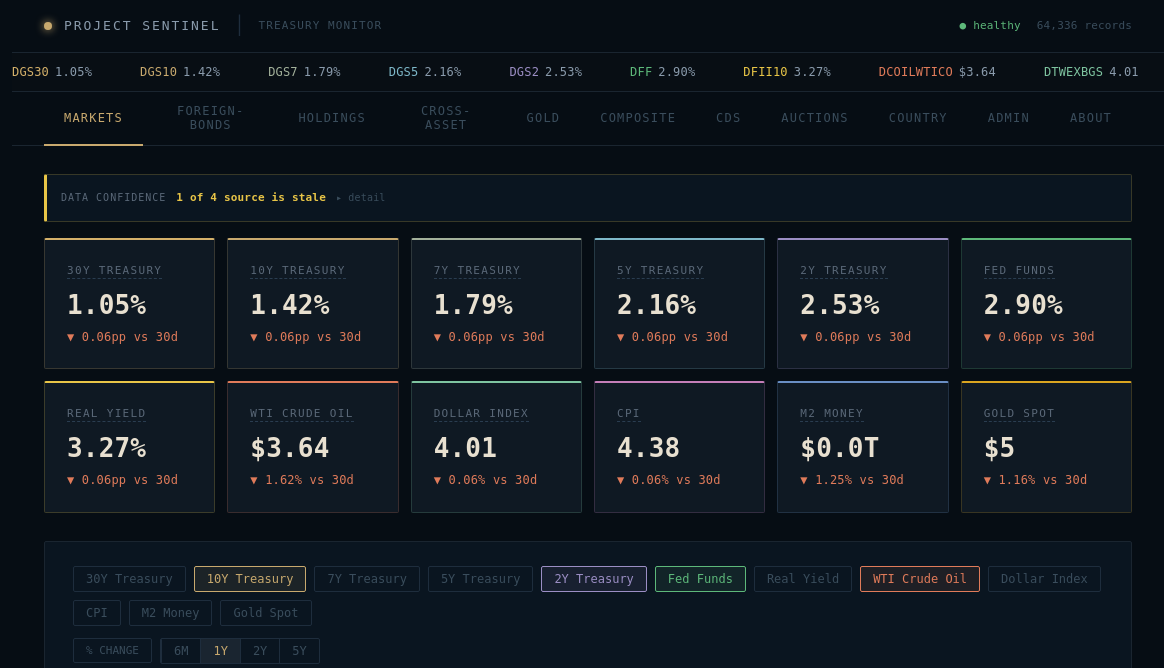
Scenario: D-0113: opening and closing a country card does not reset MARKETS (#97 class) › toggle MARKETS state, open DEU's card, come back: unchanged
Expected: the button "% CHANGE" is shown, x1=73 y1=638 x2=152 y2=663
Click the button "30Y Treasury" at x=129, y=579, box x1=73 y1=566 x2=186 y2=592
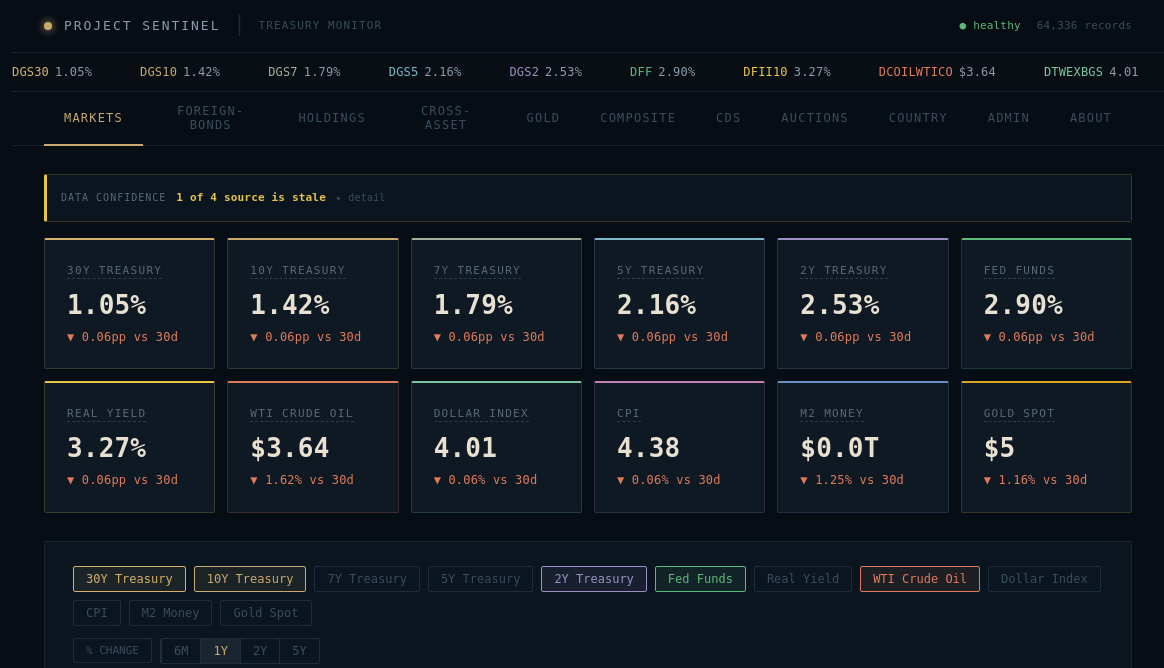
Click the button "% CHANGE" at x=112, y=651, box x1=73 y1=638 x2=152 y2=663
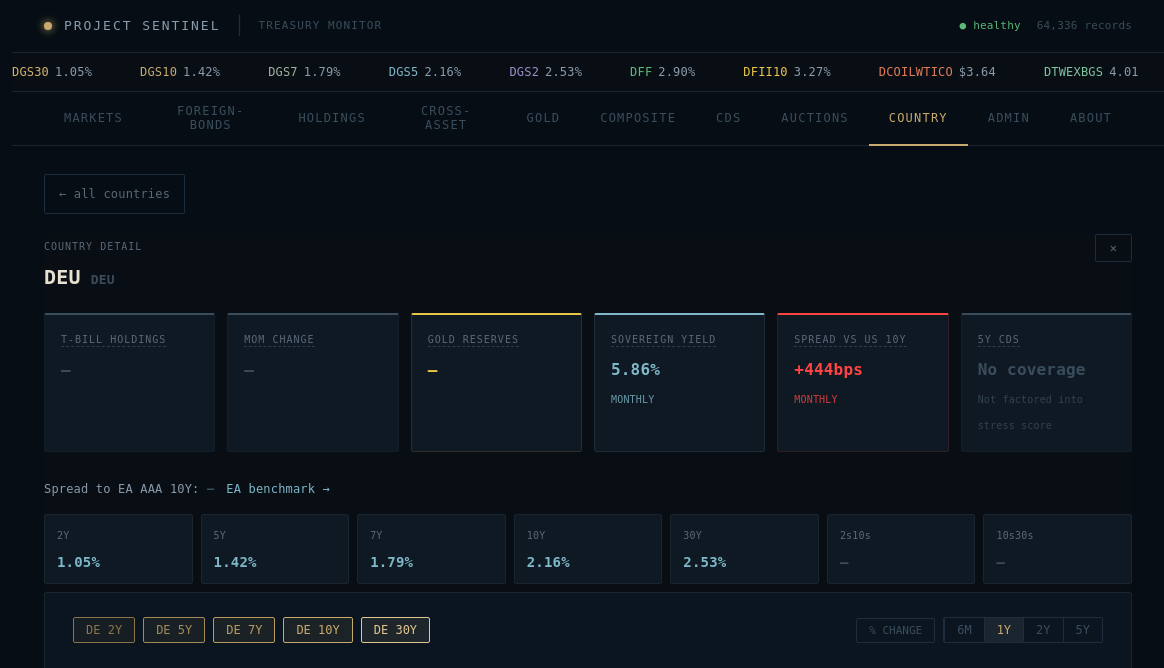
Result: the text "COUNTRY DETAIL" is shown at x1=44 y1=241 x2=142 y2=252
Click the button "MARKETS" at x=94, y=119, box x1=44 y1=92 x2=143 y2=146
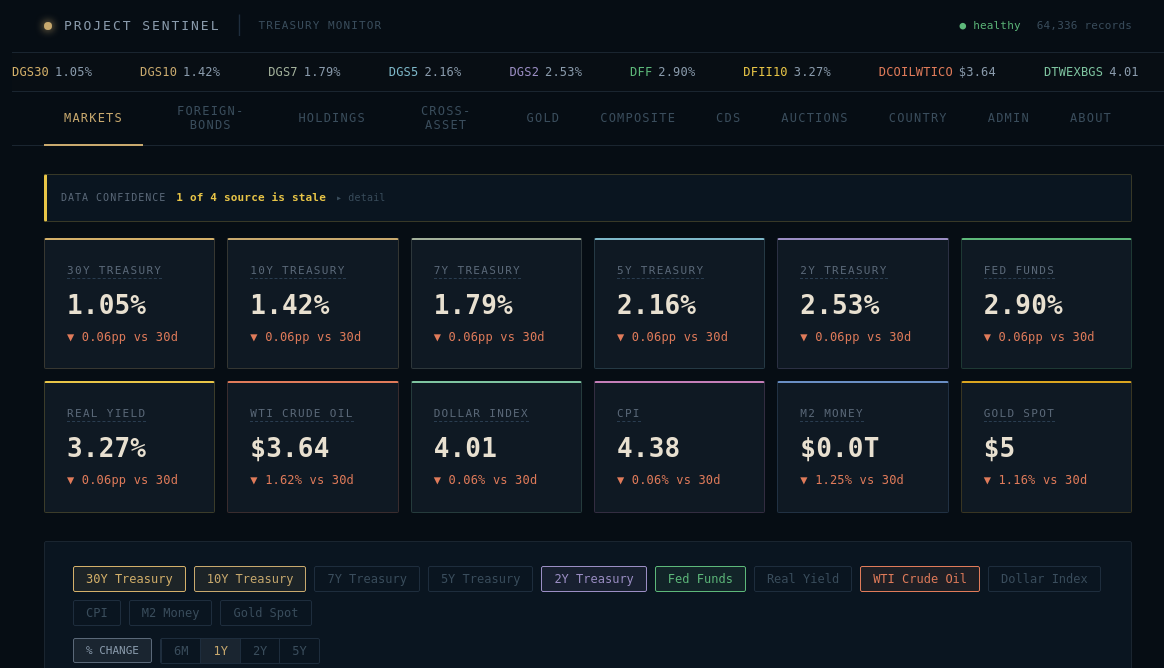
Result: the button "30Y Treasury" is shown at x1=73 y1=566 x2=186 y2=592
